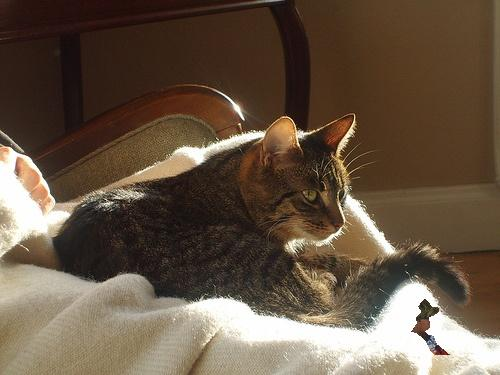tampered: (412, 300, 450, 355)
